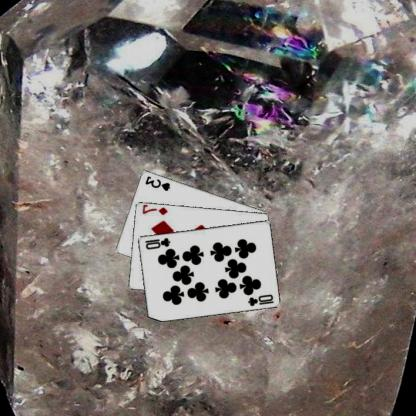10C: (247, 292, 276, 308), (144, 235, 173, 250)
3S: (144, 174, 172, 192)
7D: (142, 203, 170, 216)
